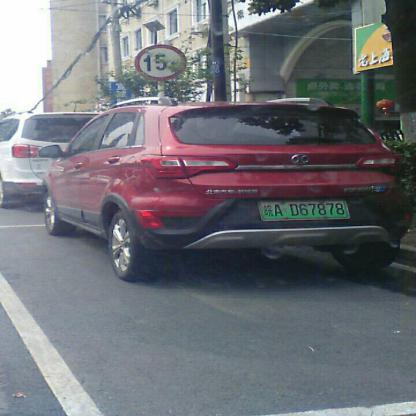lp: (260, 201, 348, 218)
